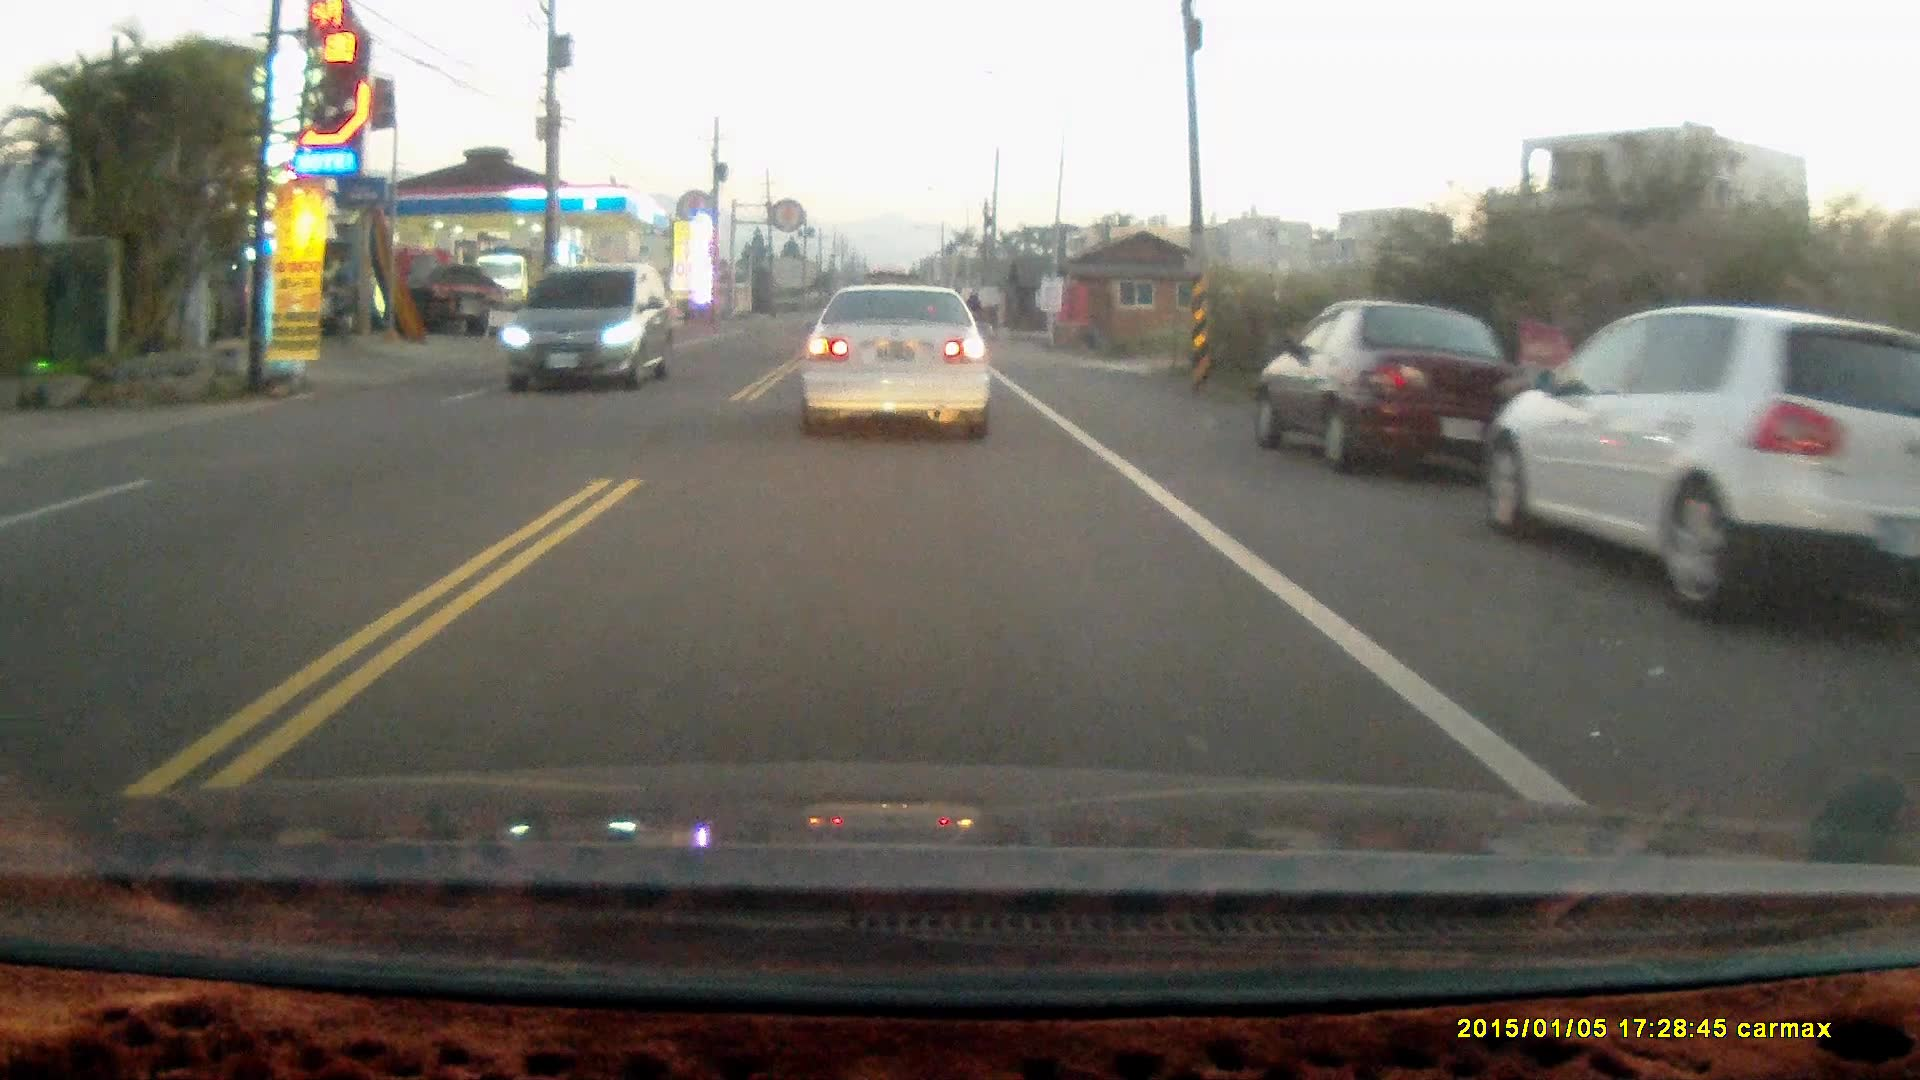vehicle: (1478, 303, 1915, 621), (1255, 303, 1540, 473), (796, 280, 996, 444), (508, 261, 678, 394)
